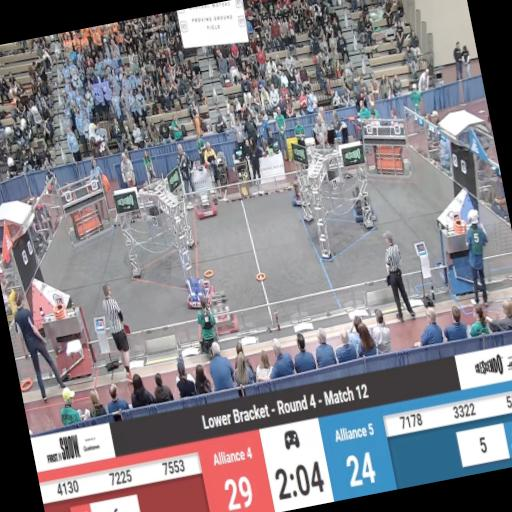robot: (206, 286, 240, 336), (346, 181, 378, 230), (184, 276, 218, 310), (194, 192, 220, 220), (296, 86, 318, 115)
